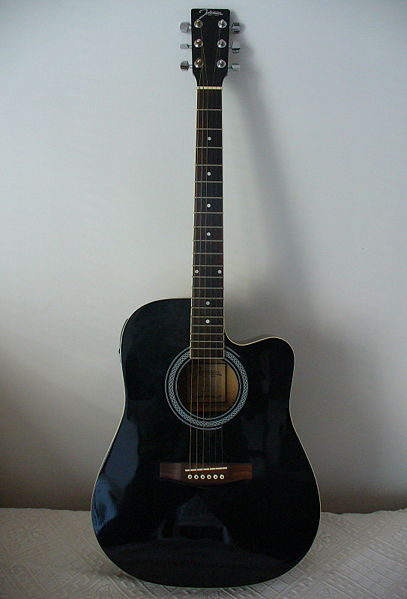guitar: (89, 7, 322, 589)
